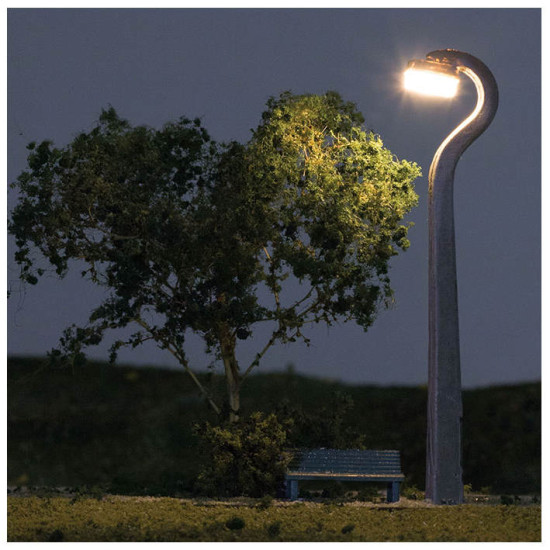light_pole: (414, 42, 482, 514)
